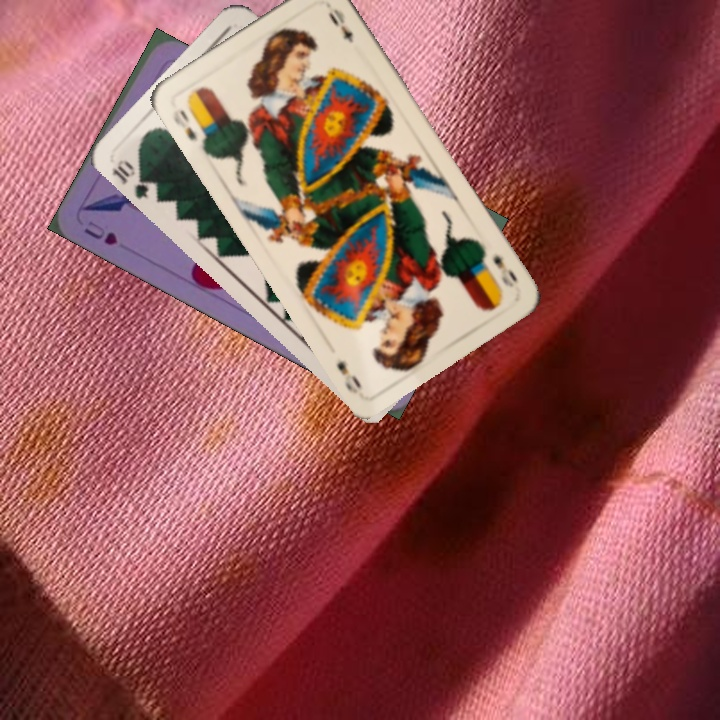EO: (488, 251, 520, 291), (168, 104, 200, 143)
G10: (107, 155, 161, 202)
HU: (80, 216, 121, 248)
